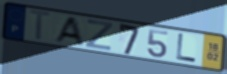5: (146, 28, 170, 59)
7: (118, 21, 140, 56)
A: (52, 16, 86, 46)
L: (175, 32, 198, 64)
T: (27, 8, 55, 42)
Z: (83, 19, 115, 53)
